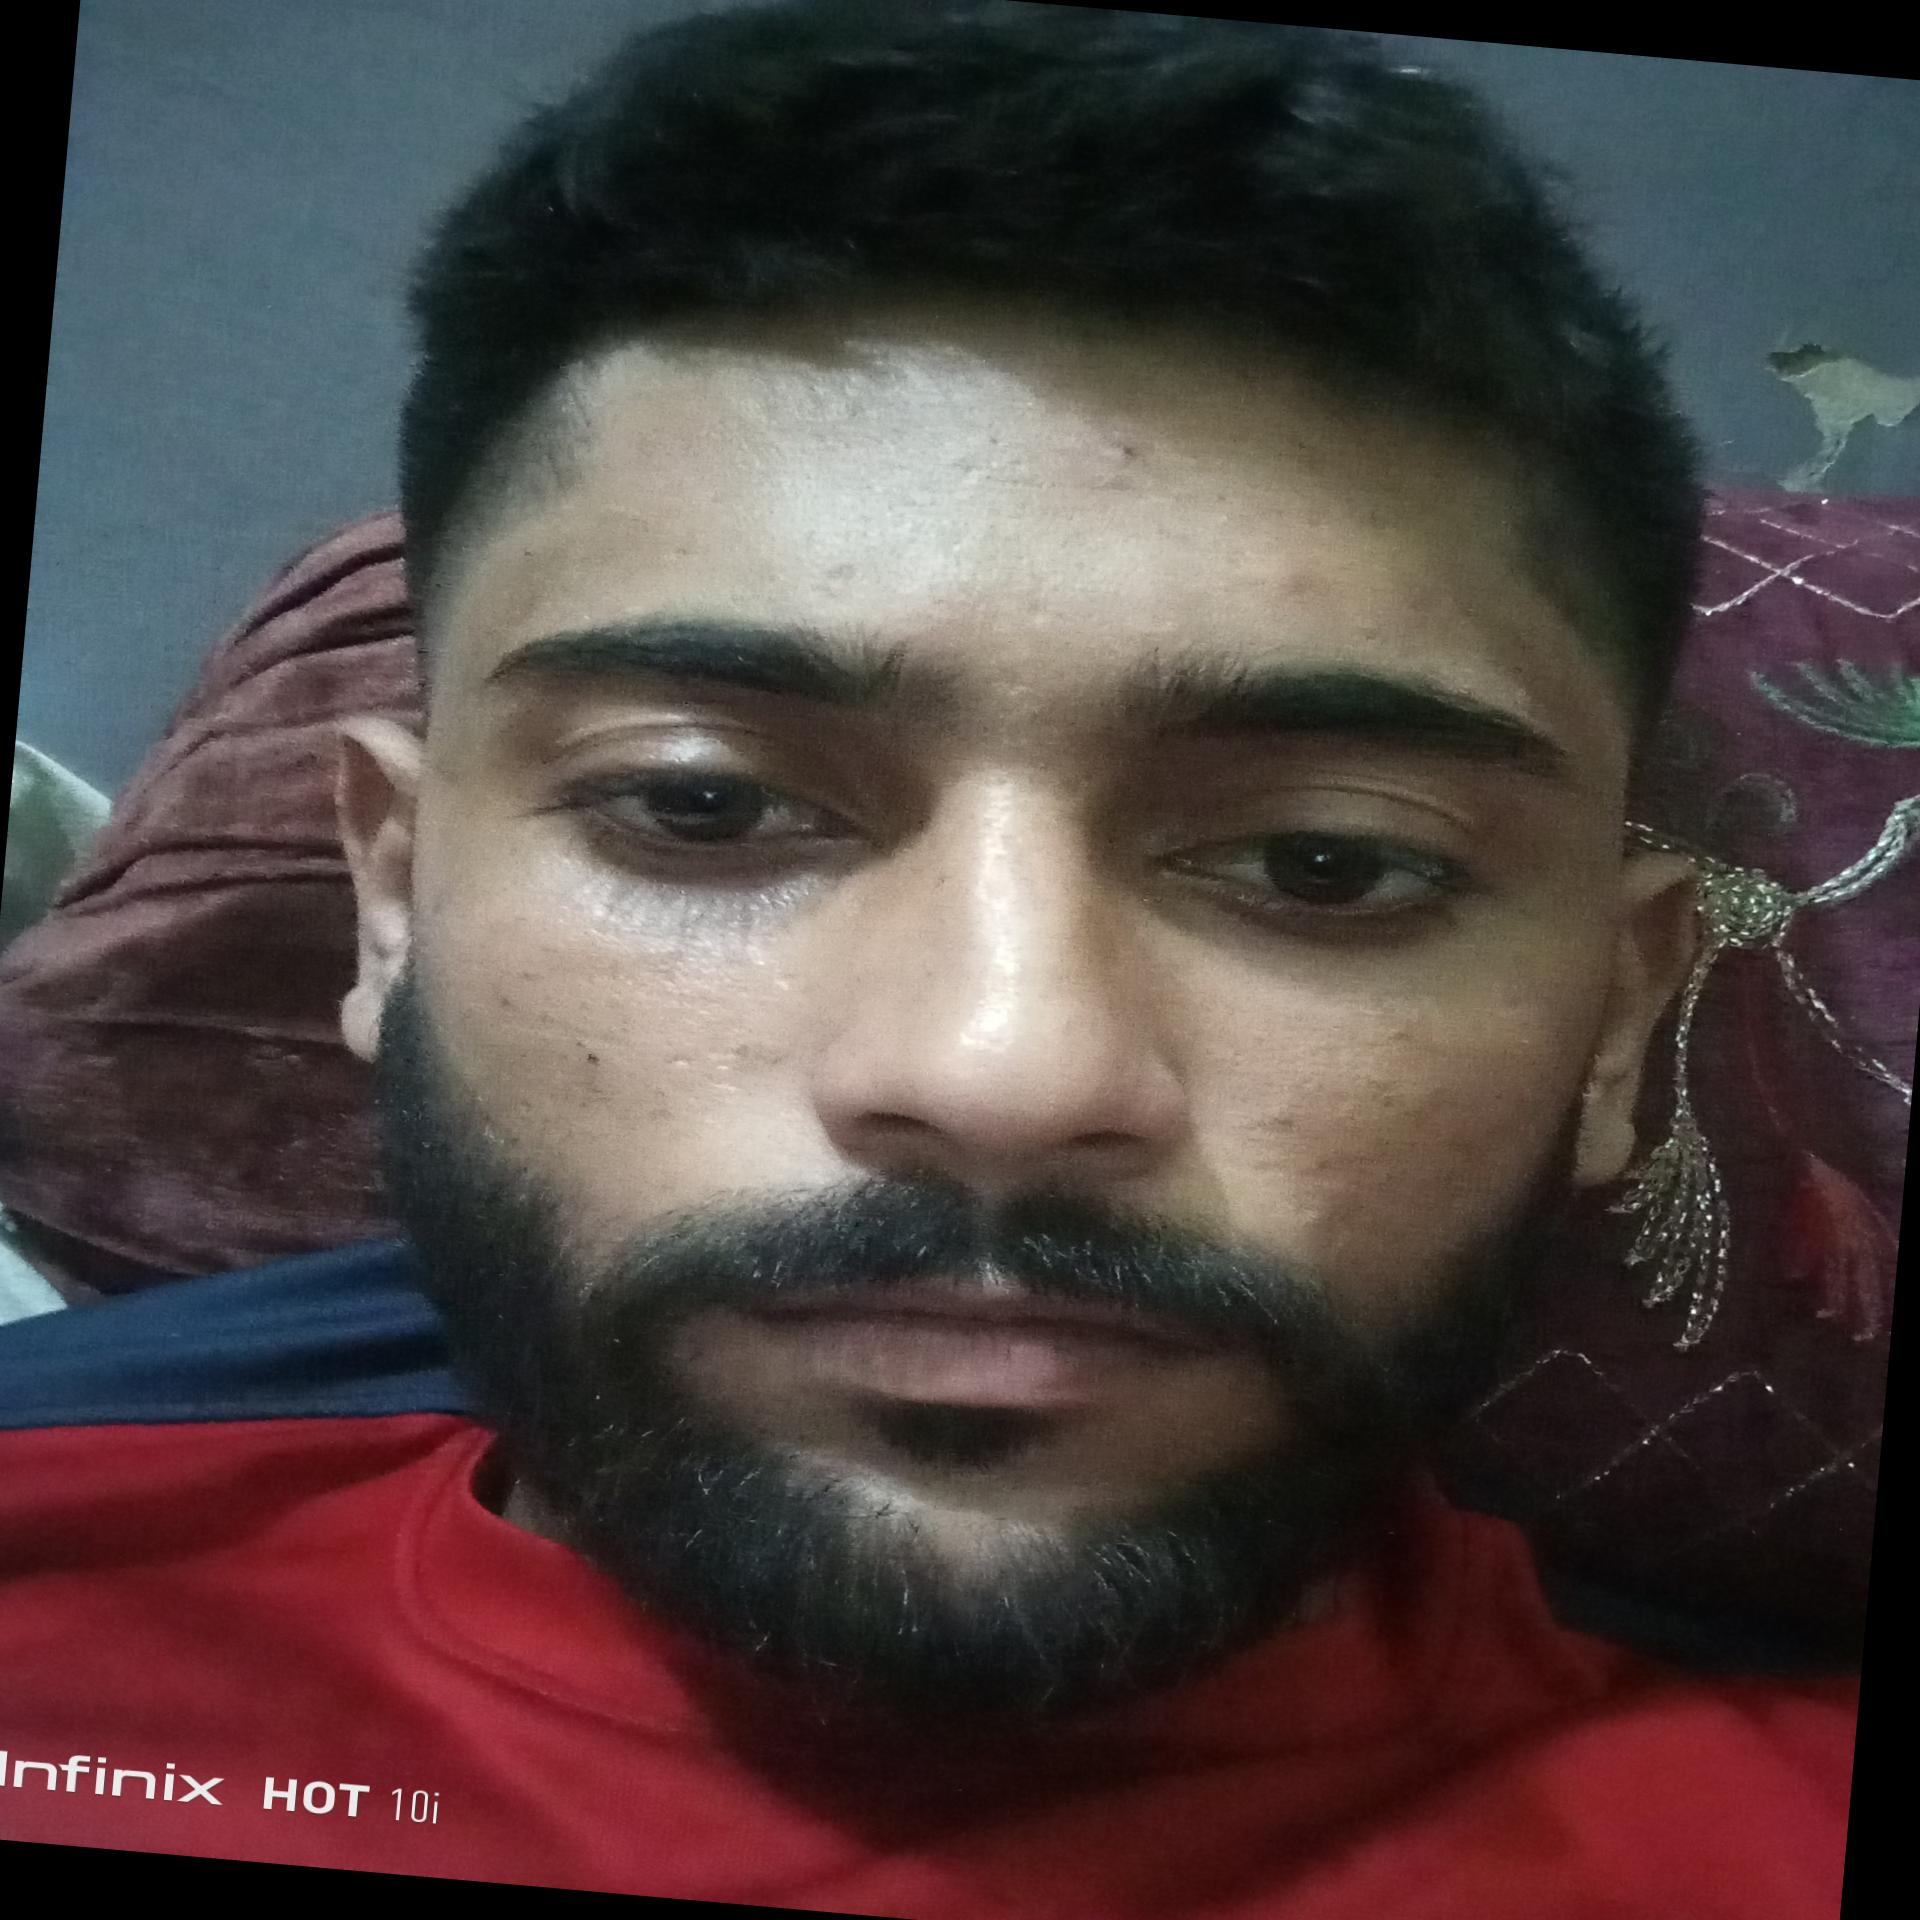Acne: (475, 960, 535, 1030), (717, 1029, 802, 1074), (1273, 1141, 1338, 1185), (557, 1037, 617, 1078), (1254, 1097, 1306, 1141), (1083, 427, 1157, 457), (1387, 1022, 1421, 1050)
Wrinkles: (867, 447, 1155, 506)
